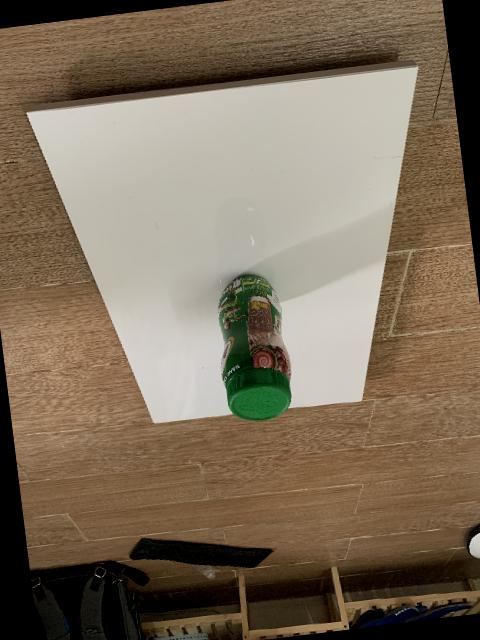milo: (216, 273, 291, 420)
